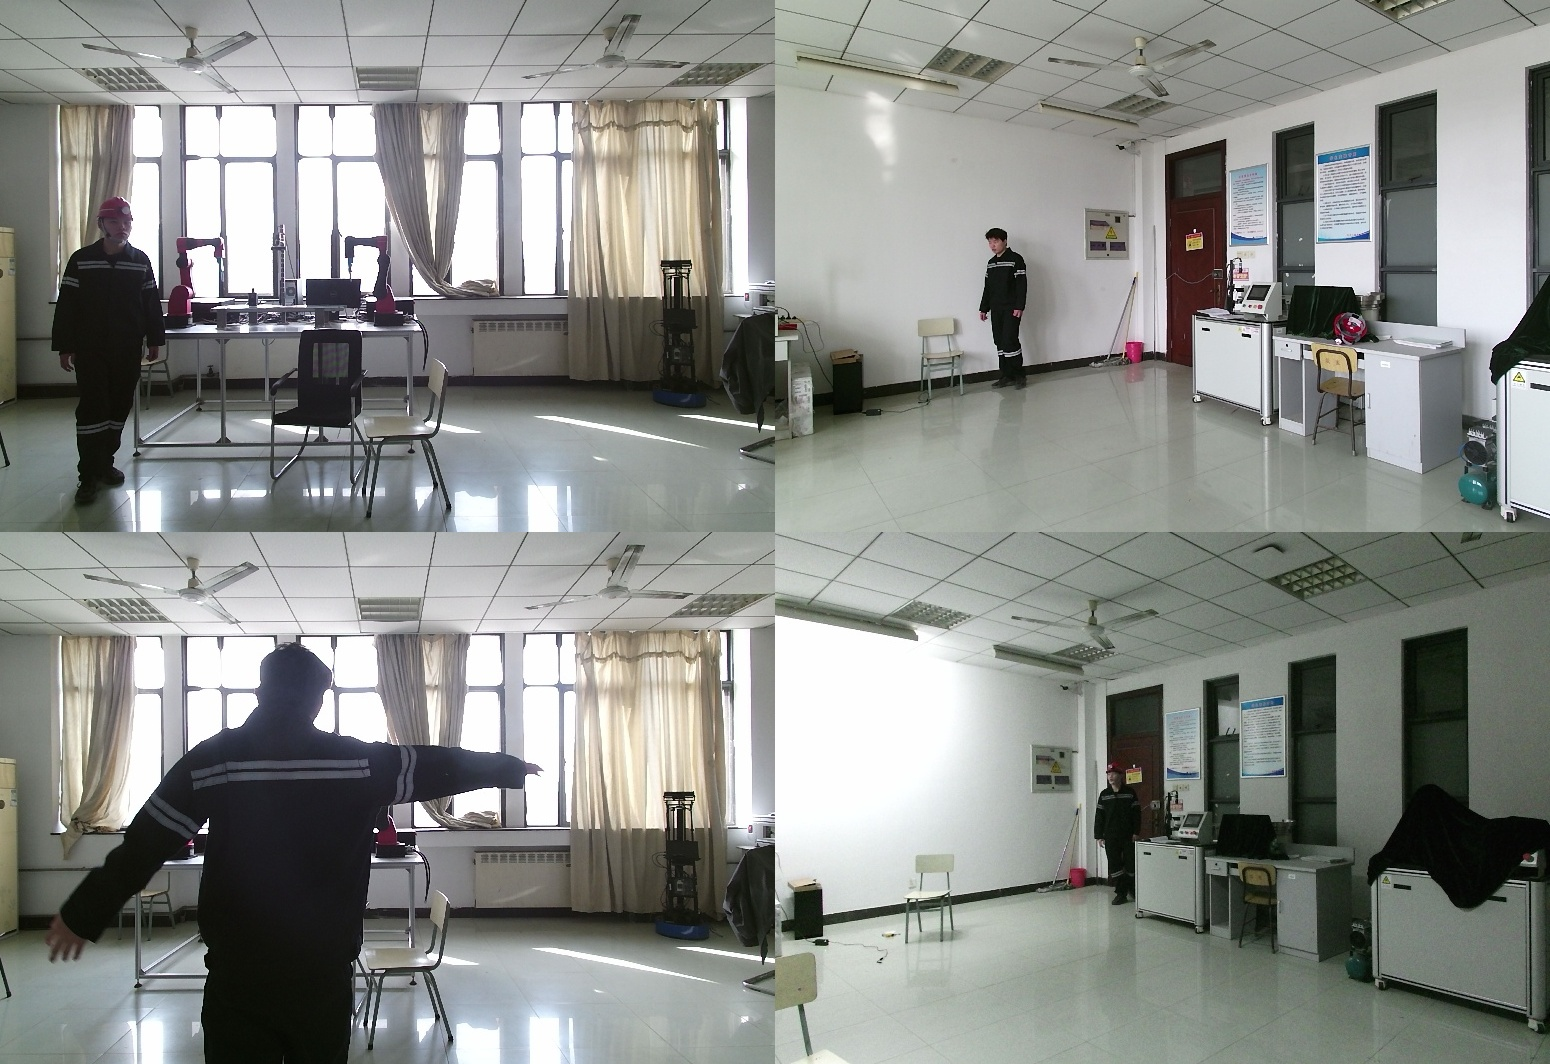person: (50, 645, 543, 1064), (54, 198, 167, 501), (976, 228, 1043, 394), (1091, 761, 1150, 911)
